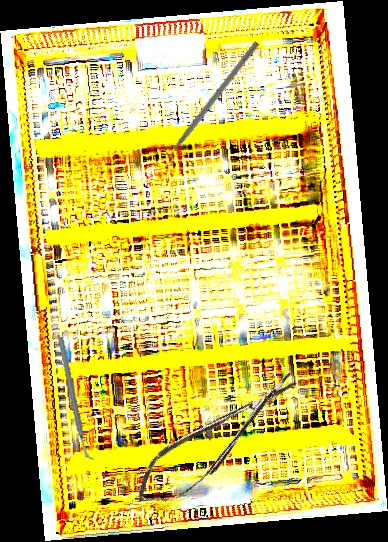Chopper: (154, 36, 260, 166), (36, 336, 116, 462)
Micro Scissor: (125, 362, 311, 517)
